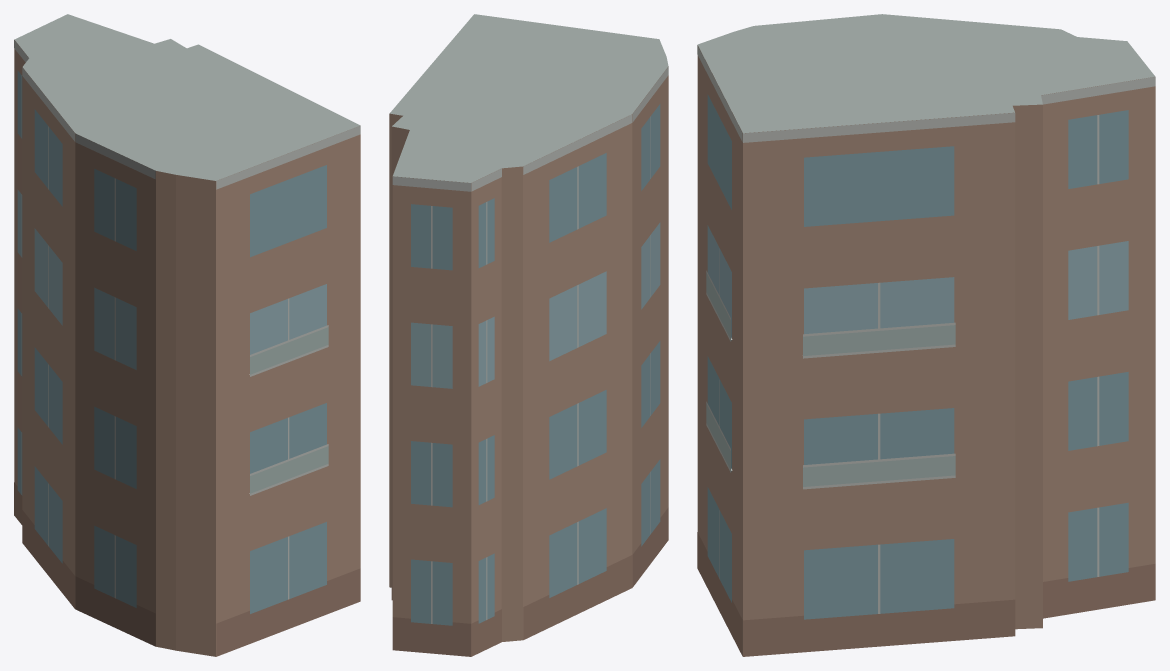
Rendered from survey-upis-33037844.glb.
3 renders of one model, left to right at view 1: azimuth 30°, elevation 25°; view 2: azimuth 150°, elevation 25°; view 3: azimuth 270°, elevation 25°, orthographic. The views are drawn at different scales.
Visible parts, largest first — view 1: survey-upis-33037844.tmp; view 2: survey-upis-33037844.tmp; view 3: survey-upis-33037844.tmp.
Part boxes in pixels (<box>): survey-upis-33037844.tmp: <box>14,14,360,656</box>; survey-upis-33037844.tmp: <box>389,14,668,656</box>; survey-upis-33037844.tmp: <box>697,14,1155,656</box>.
Bounding box in the file's own units: 6.46 × 13.2 × 10.48.
